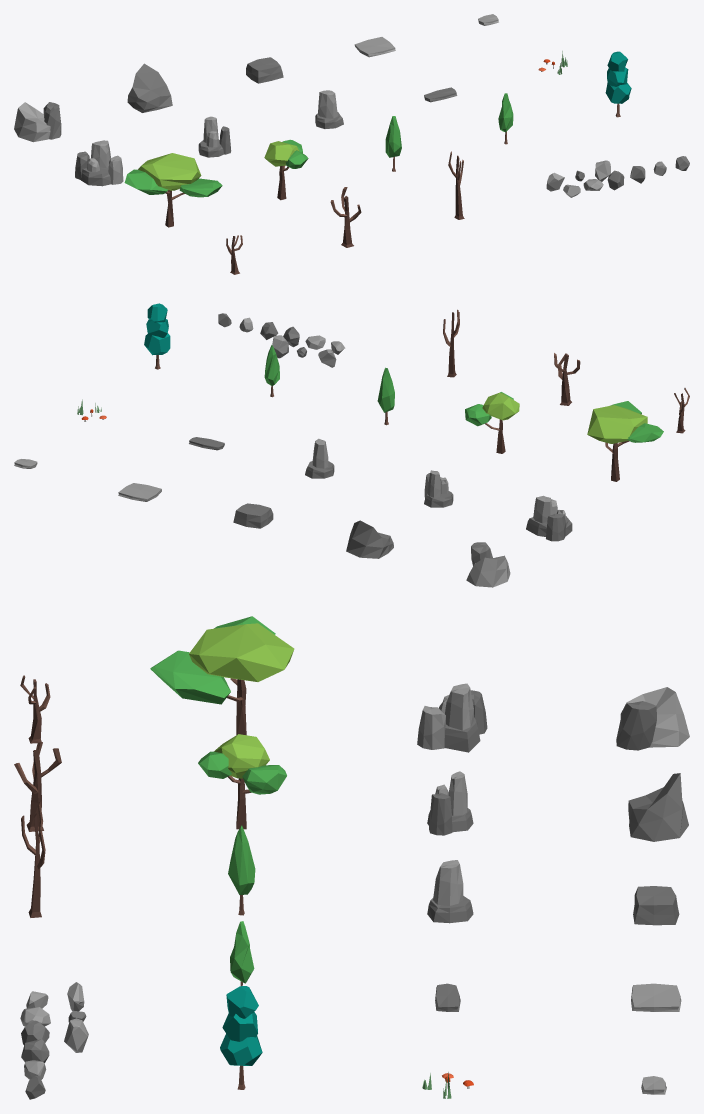
File: LowPolyNature.fbx
3 renders of one model, top to bottom at view 1: azimuth 30°, elevation 25°; view 2: azimuth 150°, elevation 25°; view 3: azimuth 270°, elevation 25°, orthographic. The views are drawn at different scales.
Visible parts, largest first — view 1: Tree_01, Rock_composite_01, Rock_large_01, Rock_large_02, Tree_02, Tree_05, Rock_composite_02, Rock_composite_03, Rock_large_03, Bark_02, Rock_flat_01, Tree_03 (+2 smaller); view 2: Tree_01, Rock_composite_01, Rock_large_01, Tree_02, Rock_large_02, Tree_05, Rock_composite_02, Rock_large_03, Rock_composite_03, Tree_03, Rock_flat_01, Bark_02 (+2 smaller); view 3: Tree_01, Tree_02, Rock_large_01, Rock_composite_01, Rock_large_02, Tree_05, Rock_composite_02, Rock_composite_03, Rock_large_03, Tree_03, Rock_flat_01, Bark_02 (+3 smaller).
Boxes of the visible parts, x1,y1,x2,y2 form: Tree_01: (124,153,222,227); Rock_composite_01: (75,140,123,186); Rock_large_01: (14,102,61,142); Rock_large_02: (127,63,172,112); Tree_02: (264,139,308,200); Tree_05: (605,51,631,117); Rock_composite_02: (198,116,231,157); Rock_composite_03: (315,90,343,128); Rock_large_03: (246,57,283,83); Bark_02: (330,187,361,247); Rock_flat_01: (354,37,395,57); Tree_03: (385,116,401,171); Tree_01: (587,401,663,481); Rock_composite_01: (526,495,572,541); Rock_large_01: (466,542,510,587); Tree_02: (465,392,519,453); Rock_large_02: (346,520,393,558); Tree_05: (144,303,170,369); Rock_composite_02: (424,470,453,507); Rock_large_03: (233,503,273,528); Rock_composite_03: (305,438,334,478); Tree_03: (377,367,394,425); Rock_flat_01: (118,483,161,501); Bark_02: (554,353,580,405); Tree_01: (150,616,294,735); Tree_02: (198,734,286,829); Rock_large_01: (616,687,689,750); Rock_composite_01: (417,683,487,752); Rock_large_02: (628,773,688,841); Tree_05: (220,986,262,1089); Rock_composite_02: (427,771,473,835); Rock_composite_03: (427,860,473,923); Rock_large_03: (633,886,679,925); Tree_03: (228,825,255,915); Rock_flat_01: (631,983,681,1011); Bark_02: (14,742,61,831).
Bounding box in the file's own units: 4520 × 671 × 3278.
